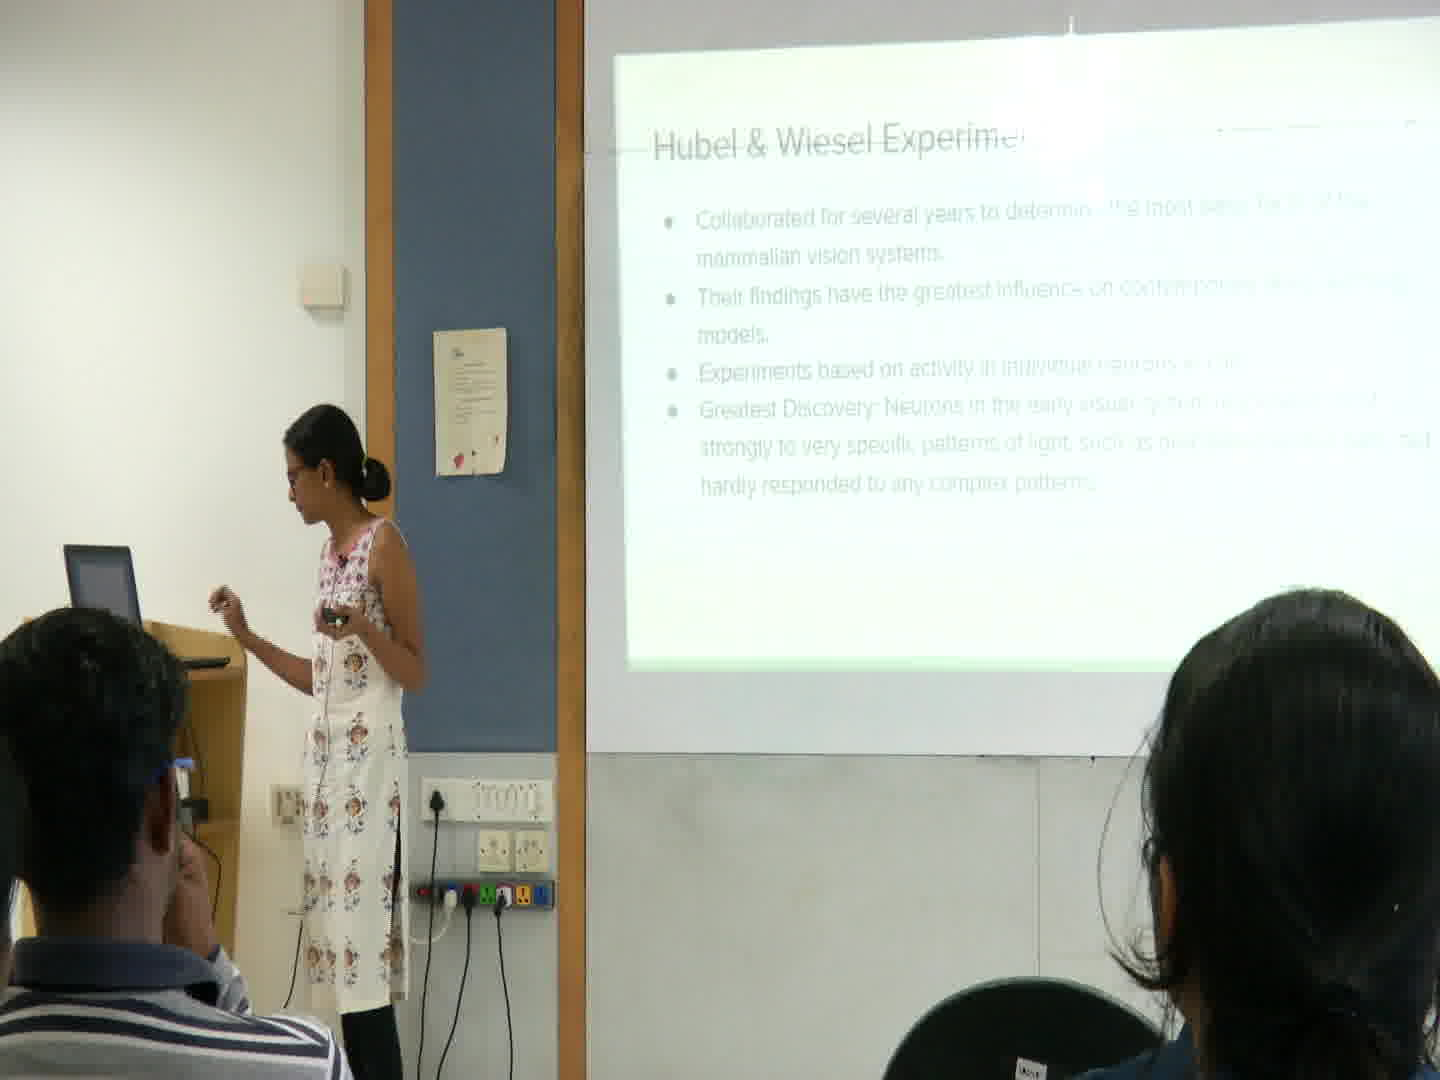slide: (613, 19, 1440, 667)
